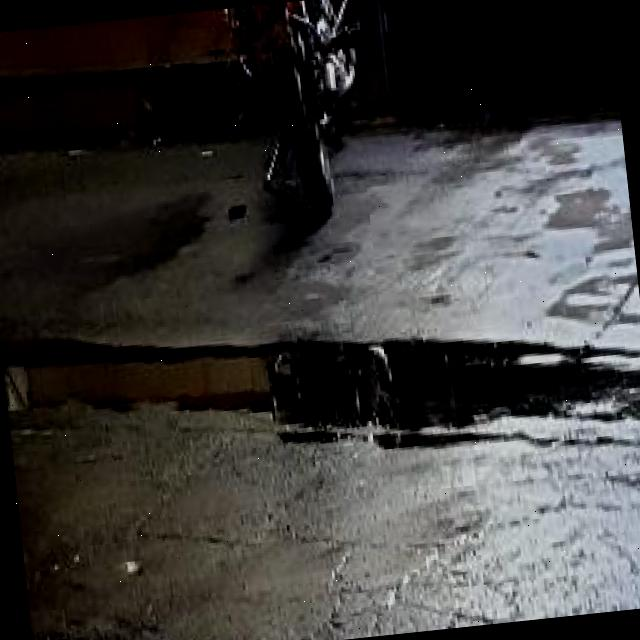stagnation: (0, 329, 640, 442)
